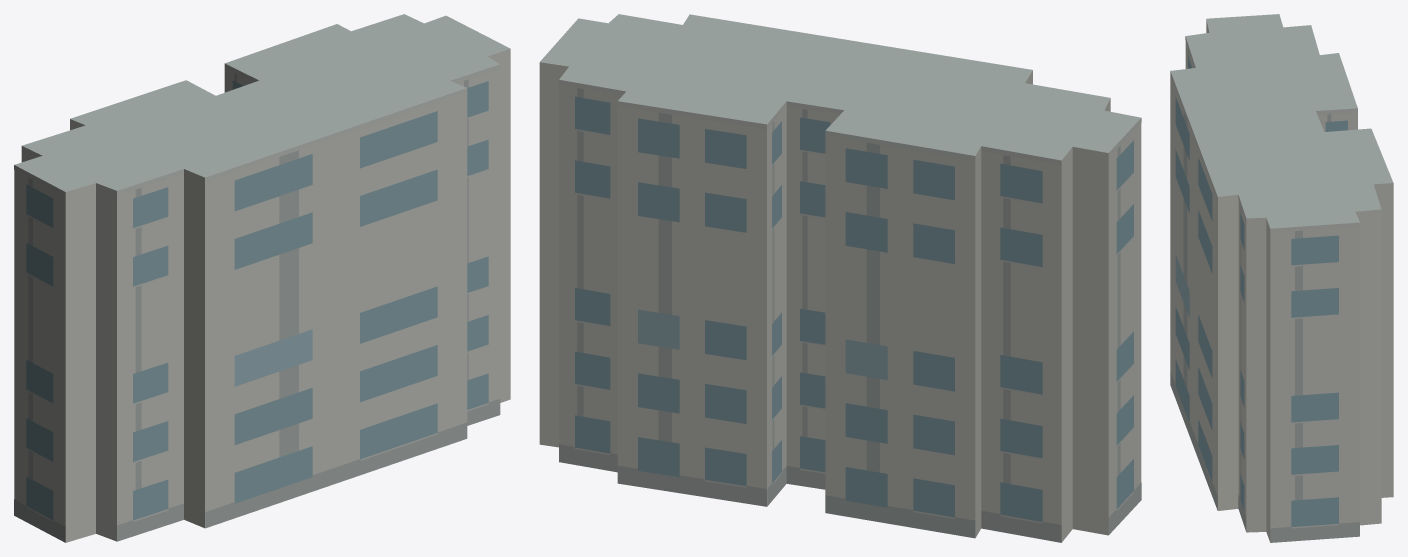
File: survey-upis-32571132.glb
3 renders of one model, left to right at view 1: azimuth 30°, elevation 25°; view 2: azimuth 150°, elevation 25°; view 3: azimuth 270°, elevation 25°, orthographic. The views are drawn at different scales.
Visible parts, largest first — view 1: survey-upis-32571132.tmp; view 2: survey-upis-32571132.tmp; view 3: survey-upis-32571132.tmp.
Part boxes in pixels (x1,y1,x2,y2): survey-upis-32571132.tmp: [14, 14, 510, 542]; survey-upis-32571132.tmp: [539, 14, 1141, 542]; survey-upis-32571132.tmp: [1170, 14, 1393, 542].
Size of the model in its own units: 26.84 by 18.3 by 11.79.
